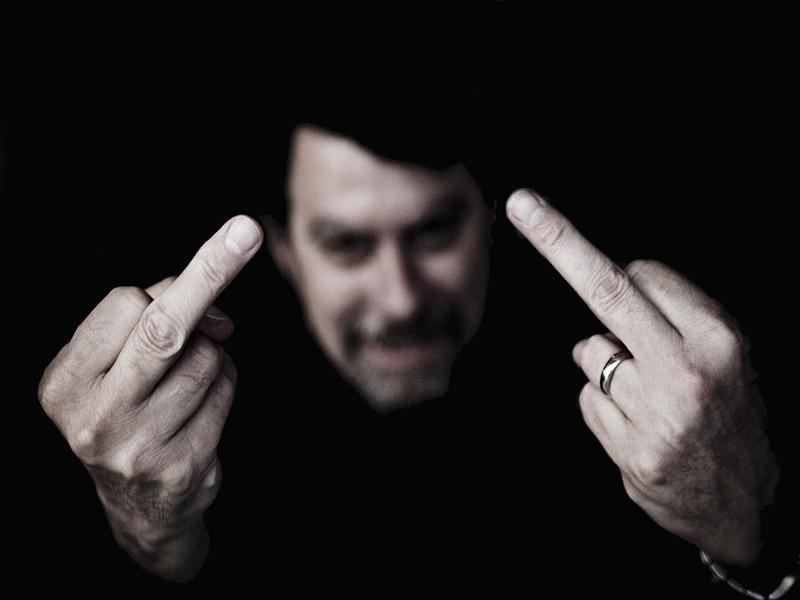flipping_the_bird: (485, 173, 782, 562), (22, 205, 279, 533)
